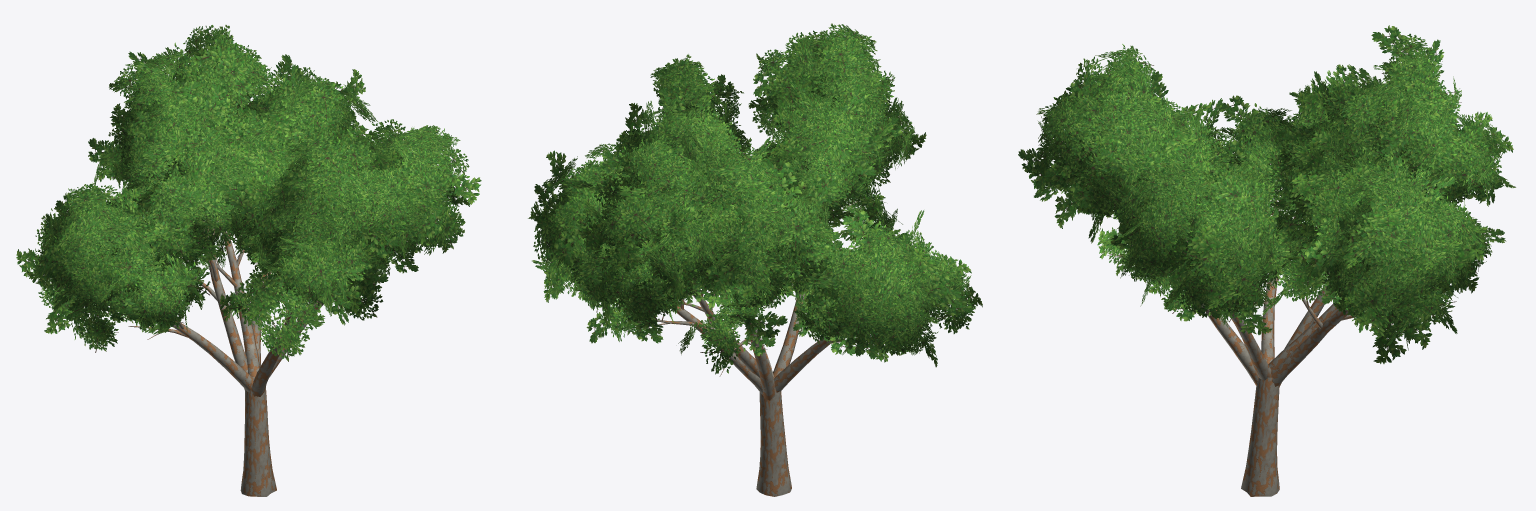
The model's file is Keyaki_A.fbx.
3 views of the same model, side by side, from view 1: azimuth 30°, elevation 25°; view 2: azimuth 150°, elevation 25°; view 3: azimuth 270°, elevation 25° (orthographic). The views are drawn at different scales.
Visible parts, largest first — view 1: Keyaki_A; view 2: Keyaki_A; view 3: Keyaki_A.
Boxes of the visible parts, <box> form: Keyaki_A: <box>16,25,481,496</box>; Keyaki_A: <box>528,23,982,496</box>; Keyaki_A: <box>1018,25,1515,496</box>.
Bounding box in the file's own units: 10.62 × 10.53 × 10.81.
Materials: 2 (2 with a texture image).
